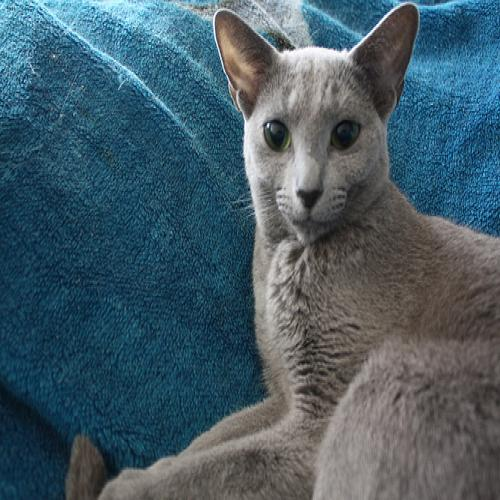rblue: (210, 3, 433, 245)
